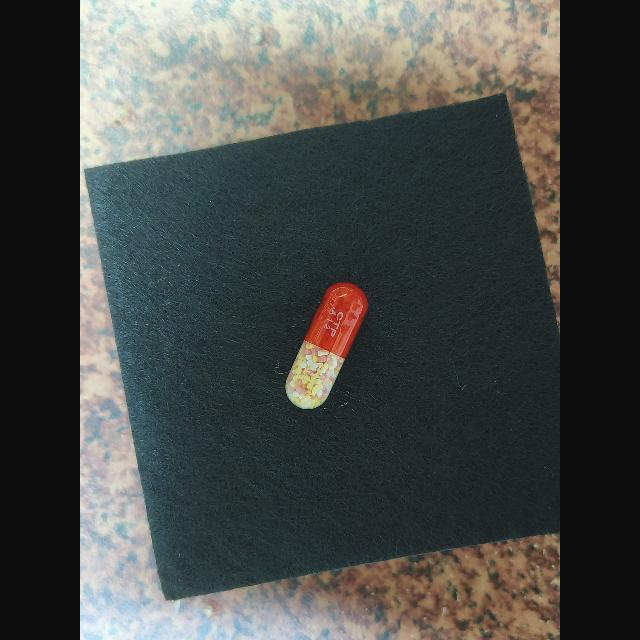Intact Capsule: (286, 282, 368, 409)
